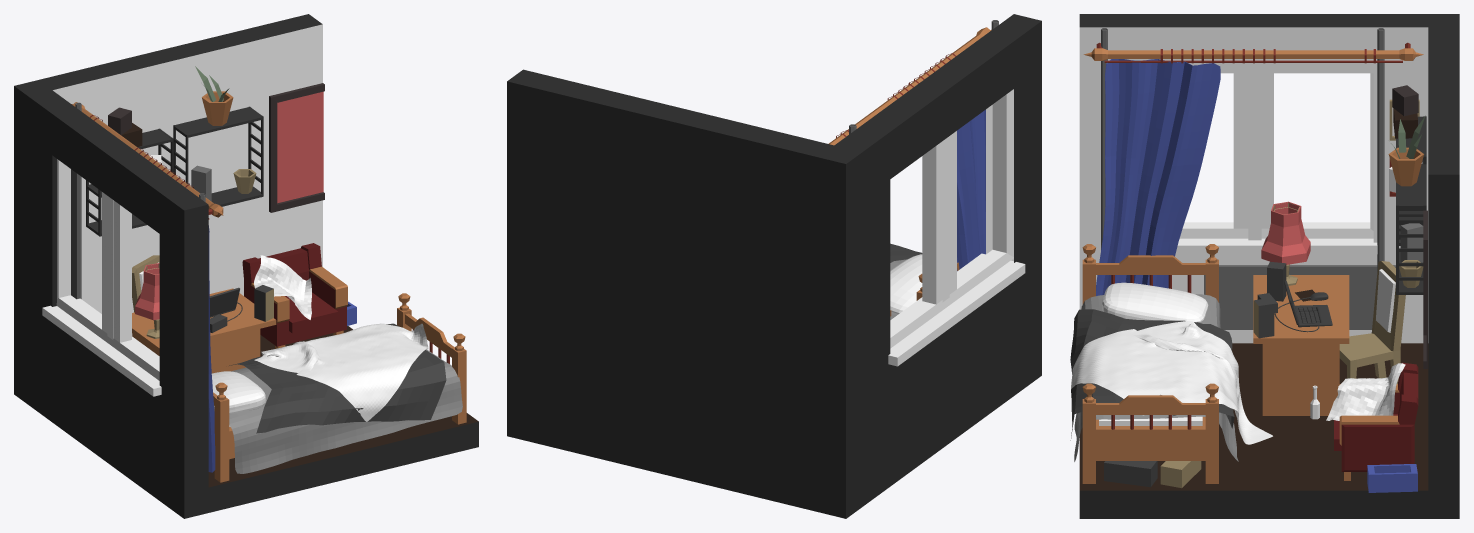
The model's file is isometric_room_new_2.glb.
The picture shows the model from 3 angles, left to right: view 1: azimuth 30°, elevation 25°; view 2: azimuth 150°, elevation 25°; view 3: azimuth 270°, elevation 25°; orthographic projection. The views are drawn at different scales.
Visible parts, largest first — view 1: Cube_2, Cube_0, Plane.007_0, Cube.023, Cube.011_0, Cube.007_0, Cube.037_1, Cube.021_0, Cube.001_0, Cube_1, Cube.010_0, Cube.037_0 (+17 smaller); view 2: Cube_2, Cube.011_0, Cylinder.006_0, Cube.010_0, Cube.012_0, Cube.008_0, Cube_0, Cylinder.004_0; view 3: Cube_2, Cube_0, Cylinder.006_0, Cube_1, Plane.007_0, Cube.001_0, Cube.011_0, Cube.016_0, Cube.021_0, Cube.003_0, Cube.009_0, Cube.023 (+31 smaller).
Boxes of the visible parts, left/top/right/bottom form: Cube_2: left=14, top=14, right=478, bottom=518; Cube_0: left=53, top=24, right=322, bottom=335; Plane.007_0: left=254, top=323, right=428, bottom=421; Cube.023: left=229, top=323, right=446, bottom=433; Cube.011_0: left=56, top=159, right=159, bottom=380; Cube.007_0: left=229, top=349, right=462, bottom=473; Cube.037_1: left=277, top=91, right=323, bottom=203; Cube.021_0: left=242, top=243, right=346, bottom=346; Cube.001_0: left=132, top=288, right=276, bottom=373; Cube_1: left=208, top=326, right=478, bottom=487; Cube.010_0: left=42, top=298, right=161, bottom=396; Cube.037_0: left=269, top=83, right=324, bottom=212; Cube_2: left=507, top=14, right=1041, bottom=518; Cube.011_0: left=890, top=89, right=1013, bottom=348; Cylinder.006_0: left=957, top=109, right=985, bottom=271; Cube.010_0: left=888, top=253, right=1025, bottom=366; Cube.012_0: left=890, top=254, right=922, bottom=313; Cube.008_0: left=942, top=136, right=949, bottom=302; Cube_0: left=986, top=105, right=1013, bottom=261; Cylinder.004_0: left=828, top=27, right=991, bottom=145; Cube_2: left=1079, top=14, right=1459, bottom=518; Cube_0: left=1079, top=27, right=1428, bottom=343; Cylinder.006_0: left=1096, top=59, right=1220, bottom=295; Cube_1: left=1079, top=343, right=1428, bottom=490; Plane.007_0: left=1071, top=321, right=1272, bottom=444; Cube.001_0: left=1253, top=275, right=1349, bottom=415; Cube.011_0: left=1179, top=73, right=1373, bottom=238; Cube.016_0: left=1204, top=265, right=1395, bottom=329; Cube.021_0: left=1334, top=362, right=1418, bottom=471; Cube.003_0: left=1096, top=417, right=1205, bottom=460; Cube.009_0: left=1096, top=255, right=1205, bottom=414; Cube.023: left=1070, top=309, right=1234, bottom=440.
Bounding box in the file's own units: 2.3 × 2.18 × 2.23.
